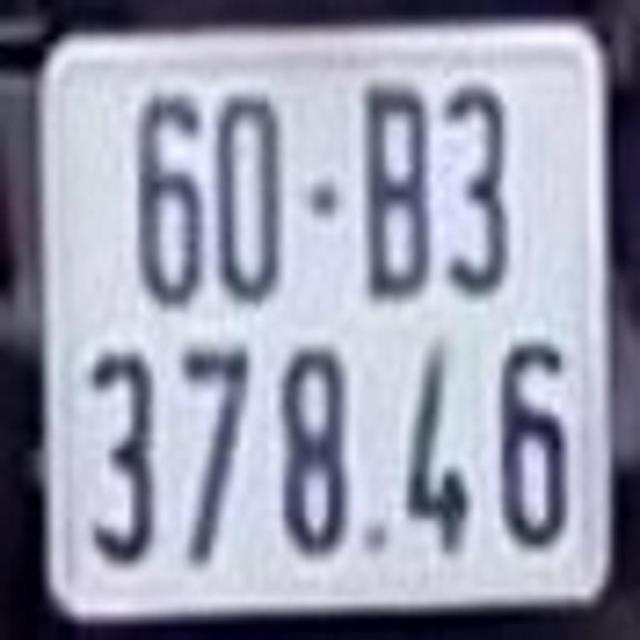0: (207, 59, 285, 298)
3: (443, 55, 517, 292), (87, 351, 161, 564)
4: (396, 319, 479, 563)
6: (126, 58, 205, 305), (499, 316, 577, 556)
7: (179, 332, 253, 566)
8: (270, 328, 357, 566)
B: (352, 59, 435, 296)
